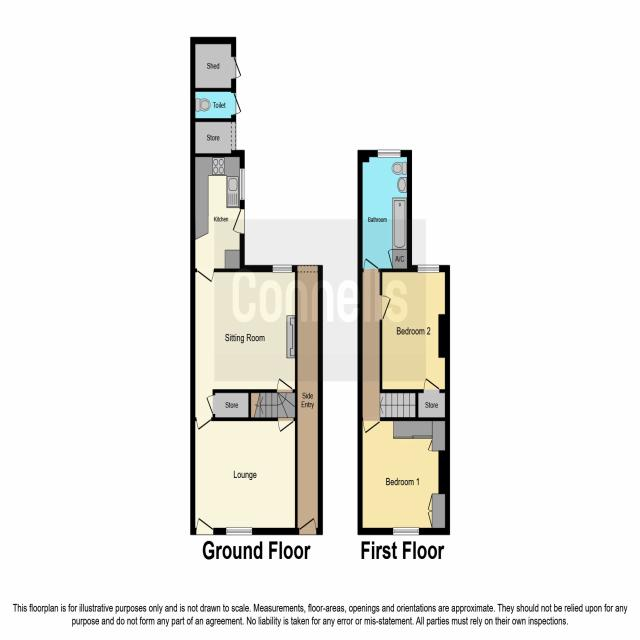DOOR: (299, 517, 318, 536), (232, 208, 245, 235), (379, 295, 392, 321), (196, 517, 214, 535), (363, 417, 381, 434), (277, 417, 294, 433), (277, 377, 294, 393), (423, 377, 440, 393), (196, 268, 214, 283), (231, 56, 242, 80), (231, 92, 242, 116), (363, 257, 379, 273), (206, 394, 216, 415), (196, 417, 212, 430)
ROOM: (190, 265, 298, 432), (190, 417, 298, 536), (357, 417, 450, 535), (379, 265, 450, 393), (190, 150, 245, 283)
WINDOW: (226, 526, 253, 535), (377, 149, 401, 158), (393, 527, 419, 535), (417, 264, 440, 273), (239, 168, 245, 201), (272, 264, 292, 273)
